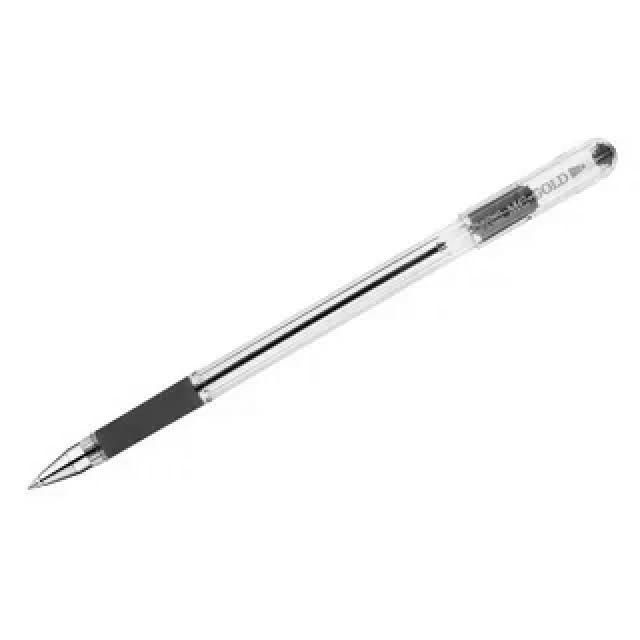pencil: (18, 134, 630, 494)
